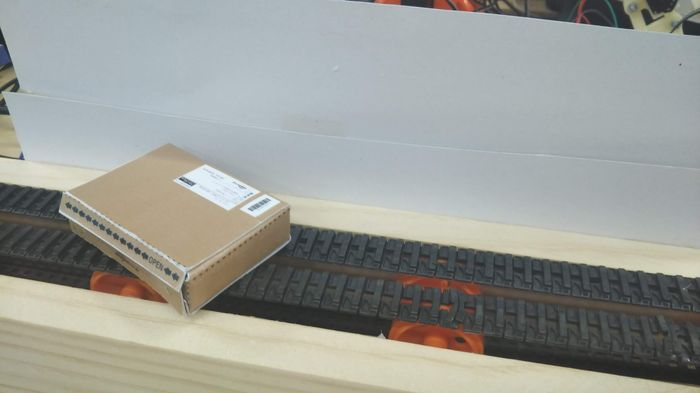box2: (56, 139, 294, 318)
